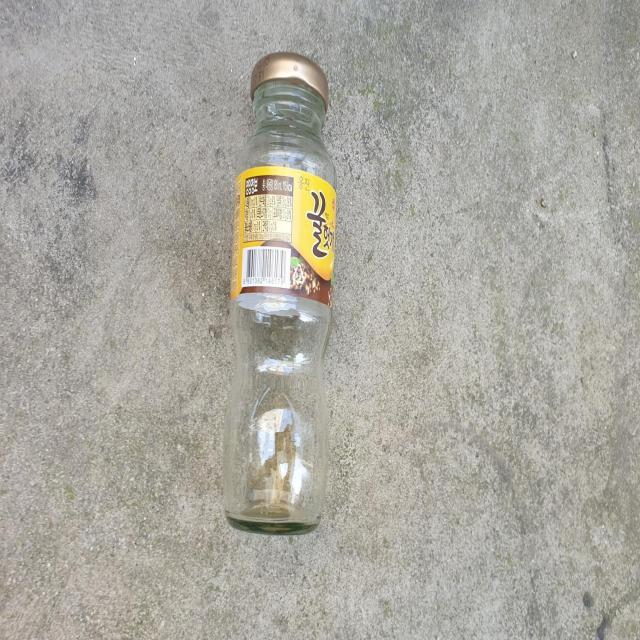glass: (223, 50, 336, 533)
